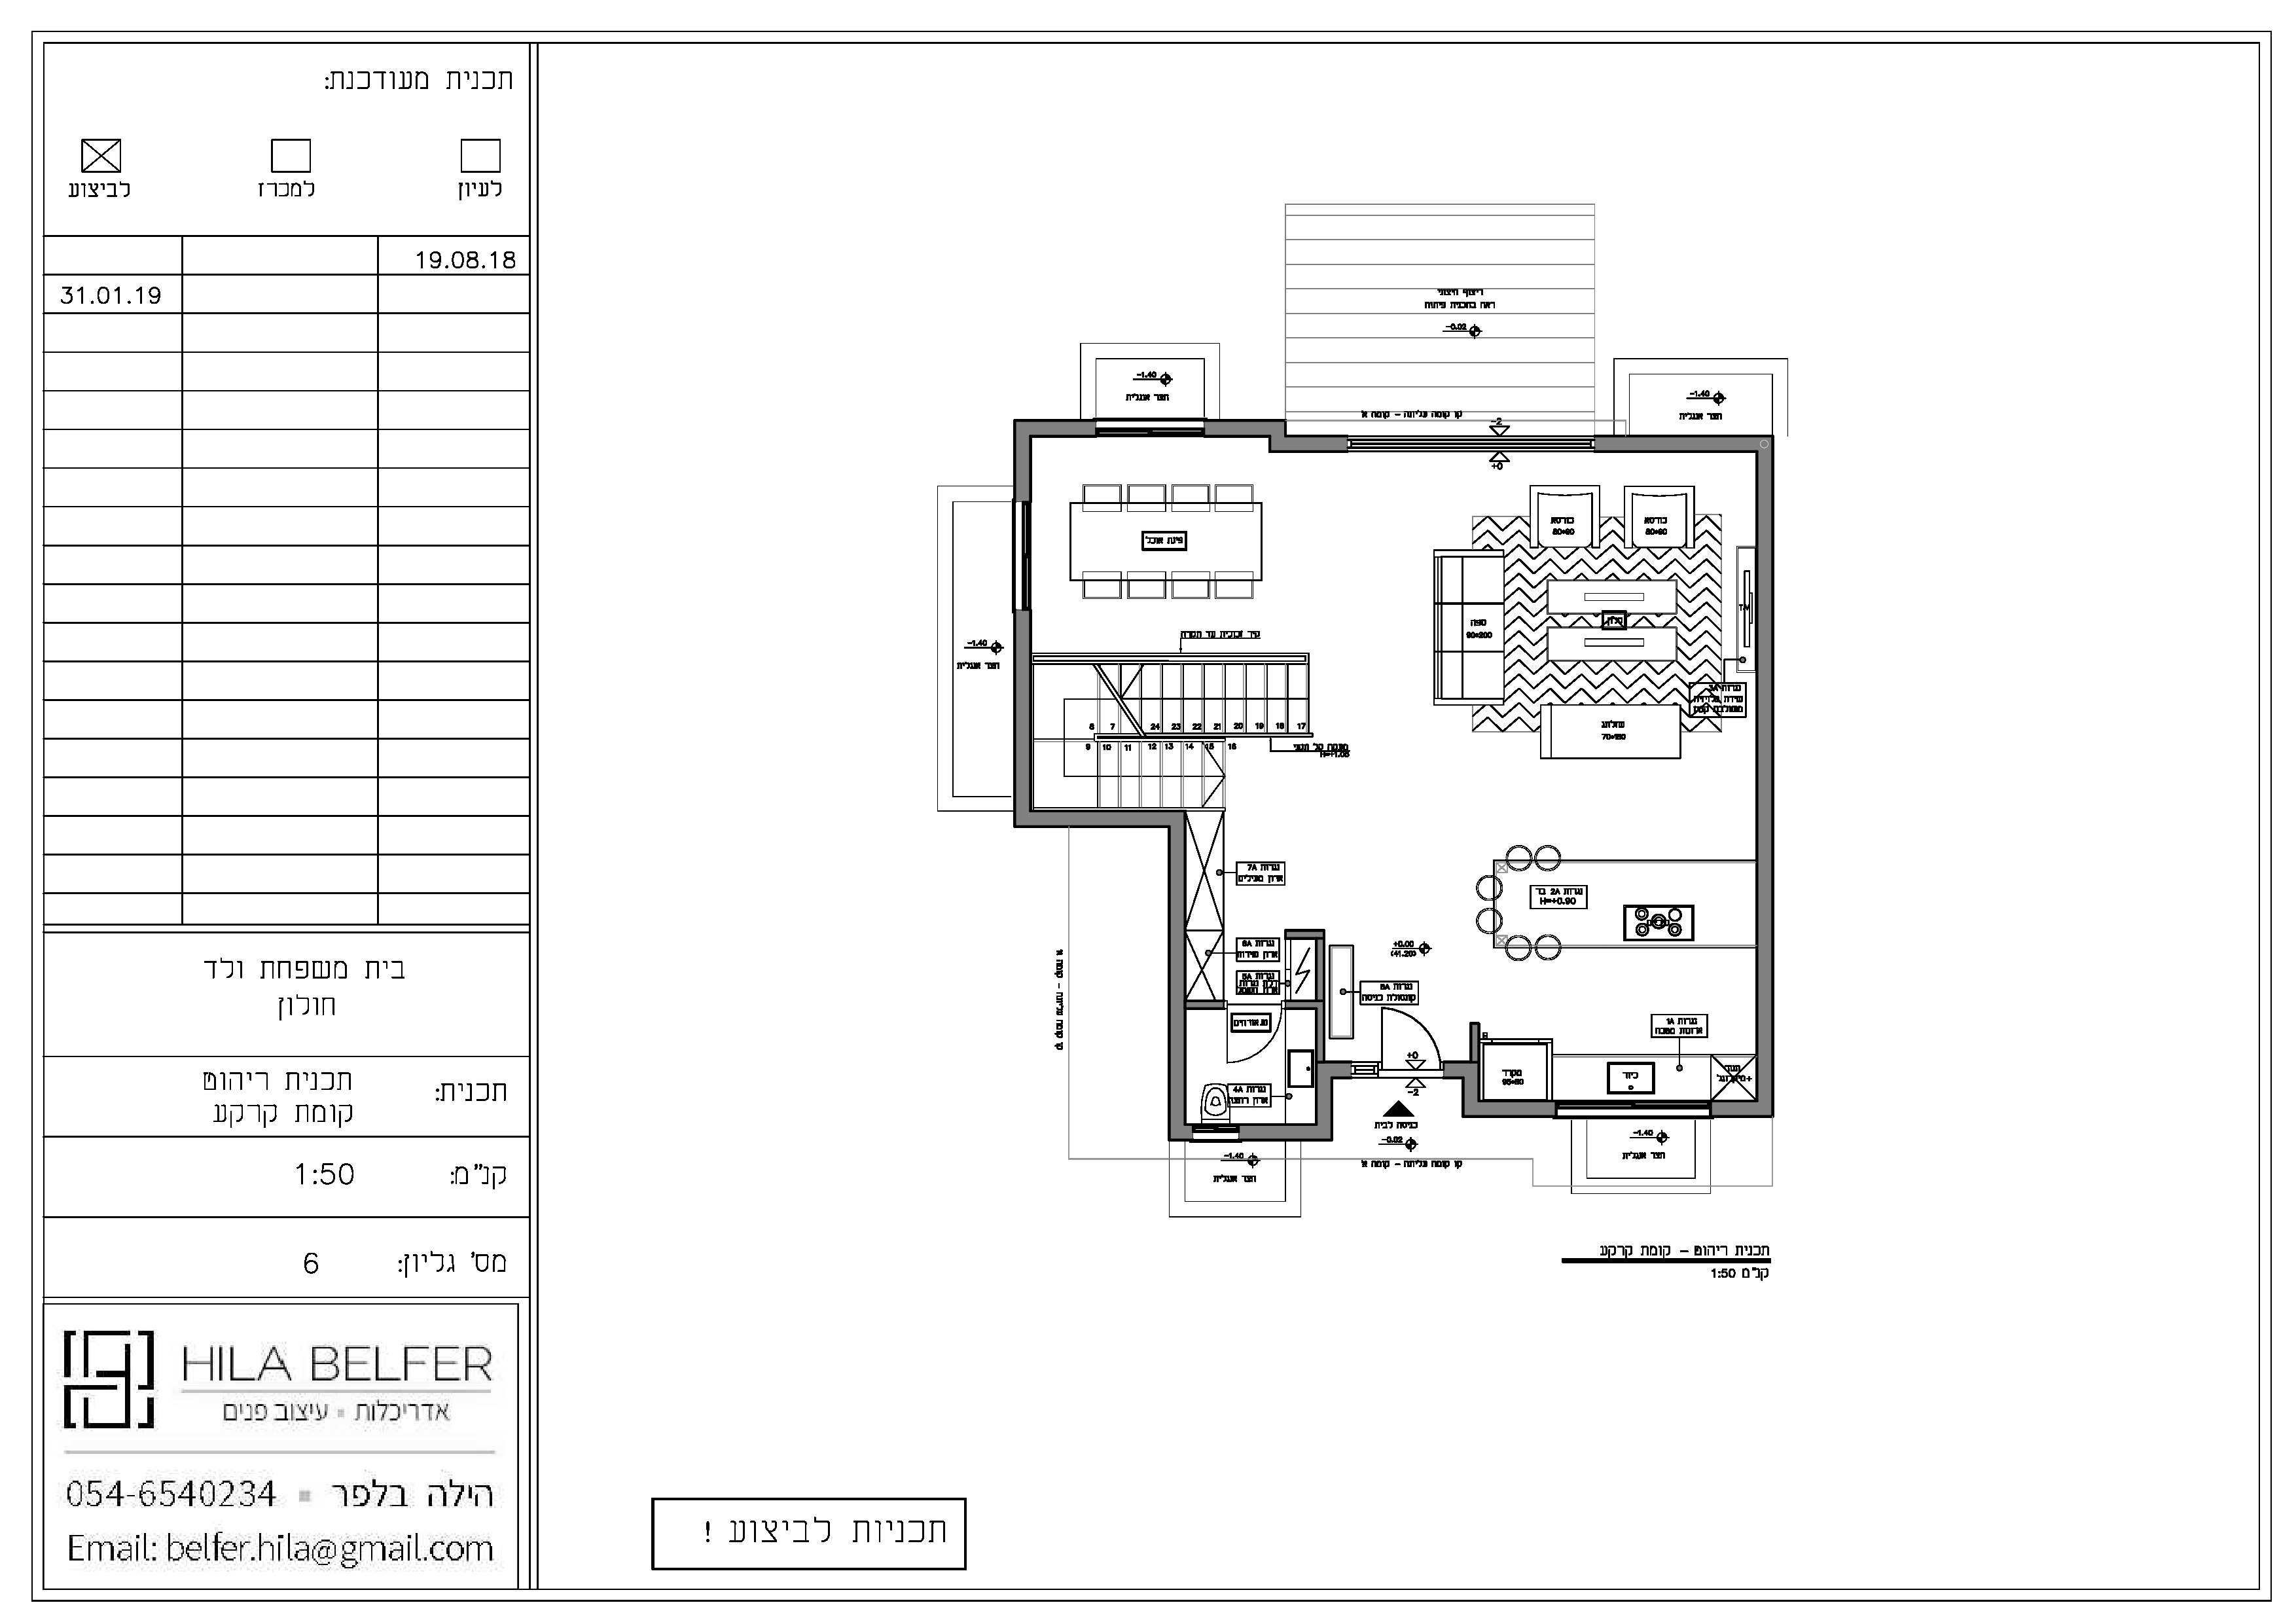door: (1377, 1004, 1446, 1060)
wall: (1757, 432, 1774, 1116), (1168, 831, 1186, 1139), (1014, 808, 1186, 828)
window: (1346, 434, 1593, 453), (1553, 1100, 1711, 1120), (1012, 499, 1035, 610), (1096, 418, 1205, 439), (1191, 1123, 1238, 1142), (1349, 1060, 1377, 1077)
